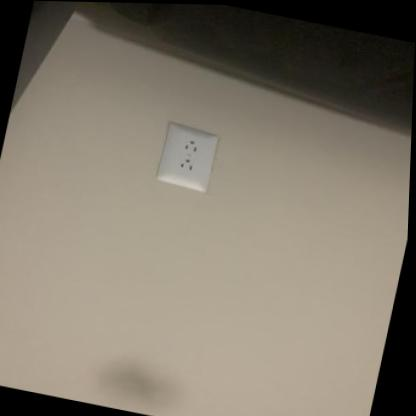OUTLET: (155, 121, 221, 194)
